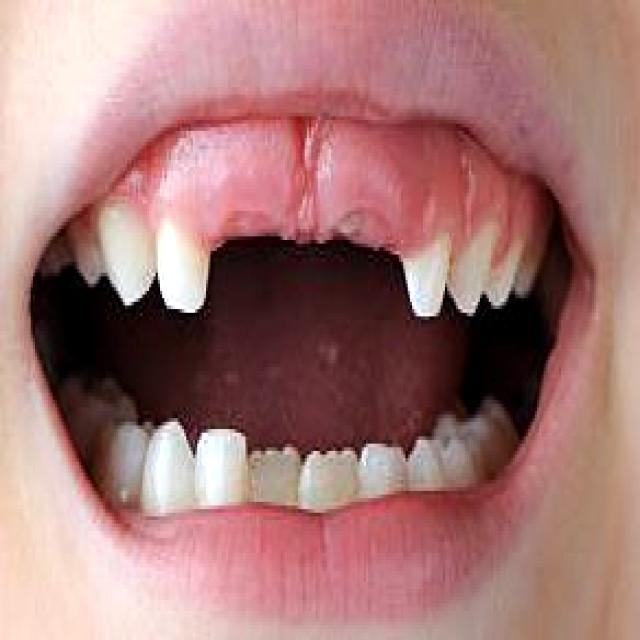hypodontia: (184, 199, 415, 312)
